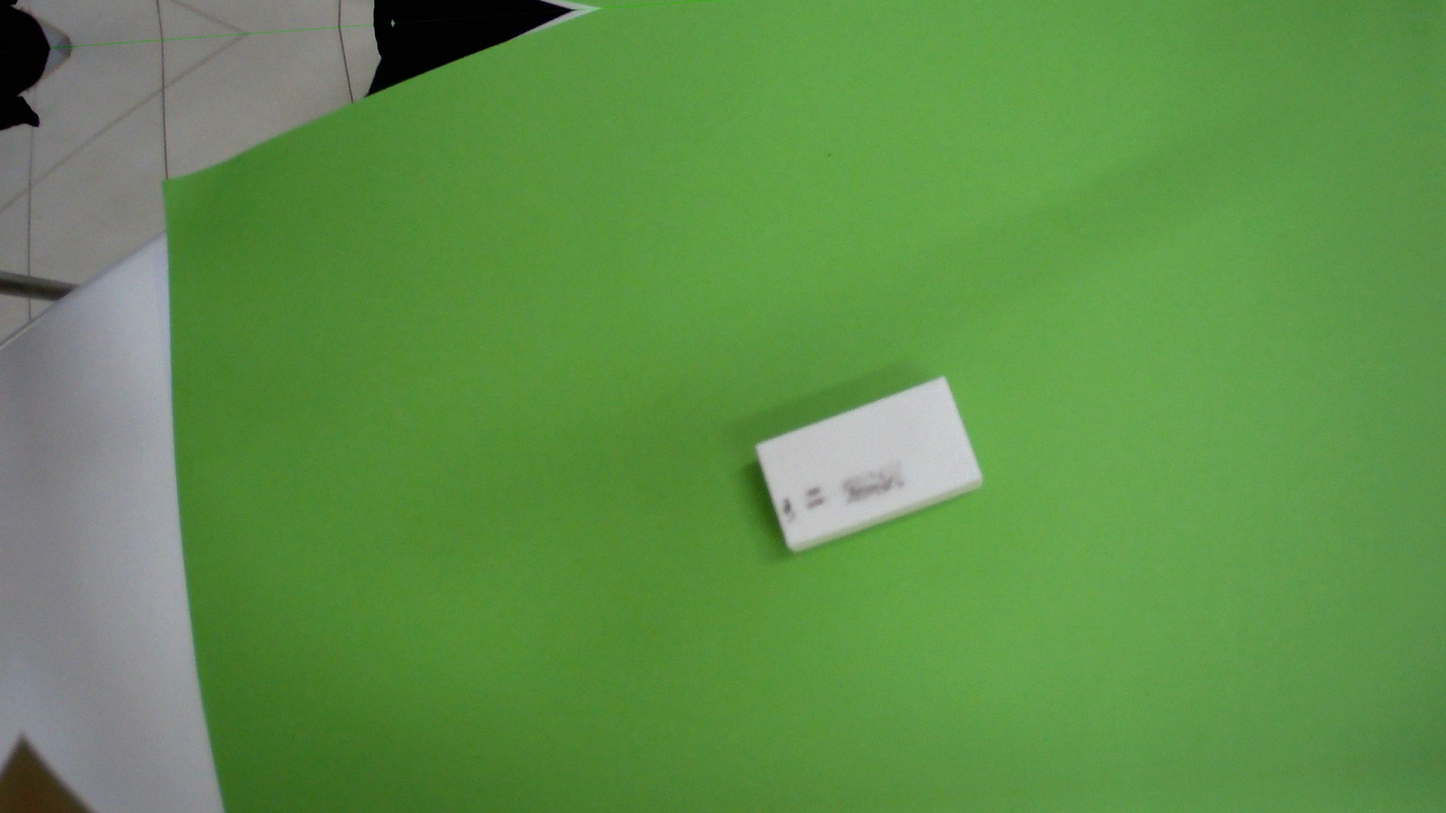gom: (738, 373, 987, 559)
